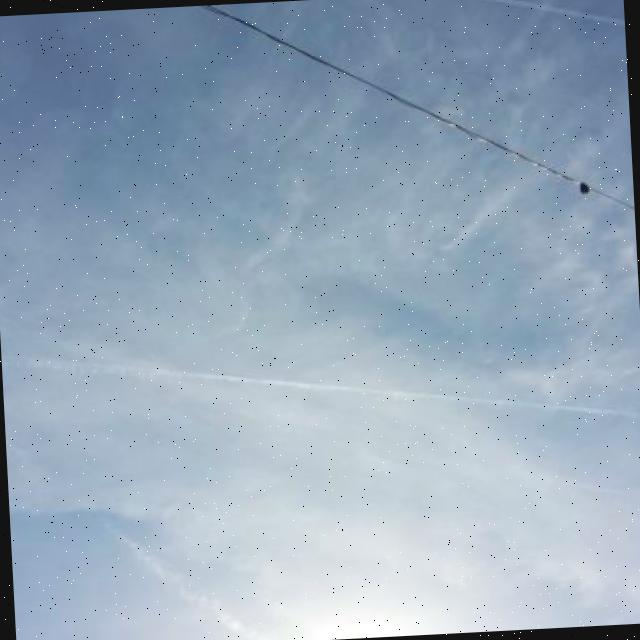Ct: (1, 228, 640, 640)
